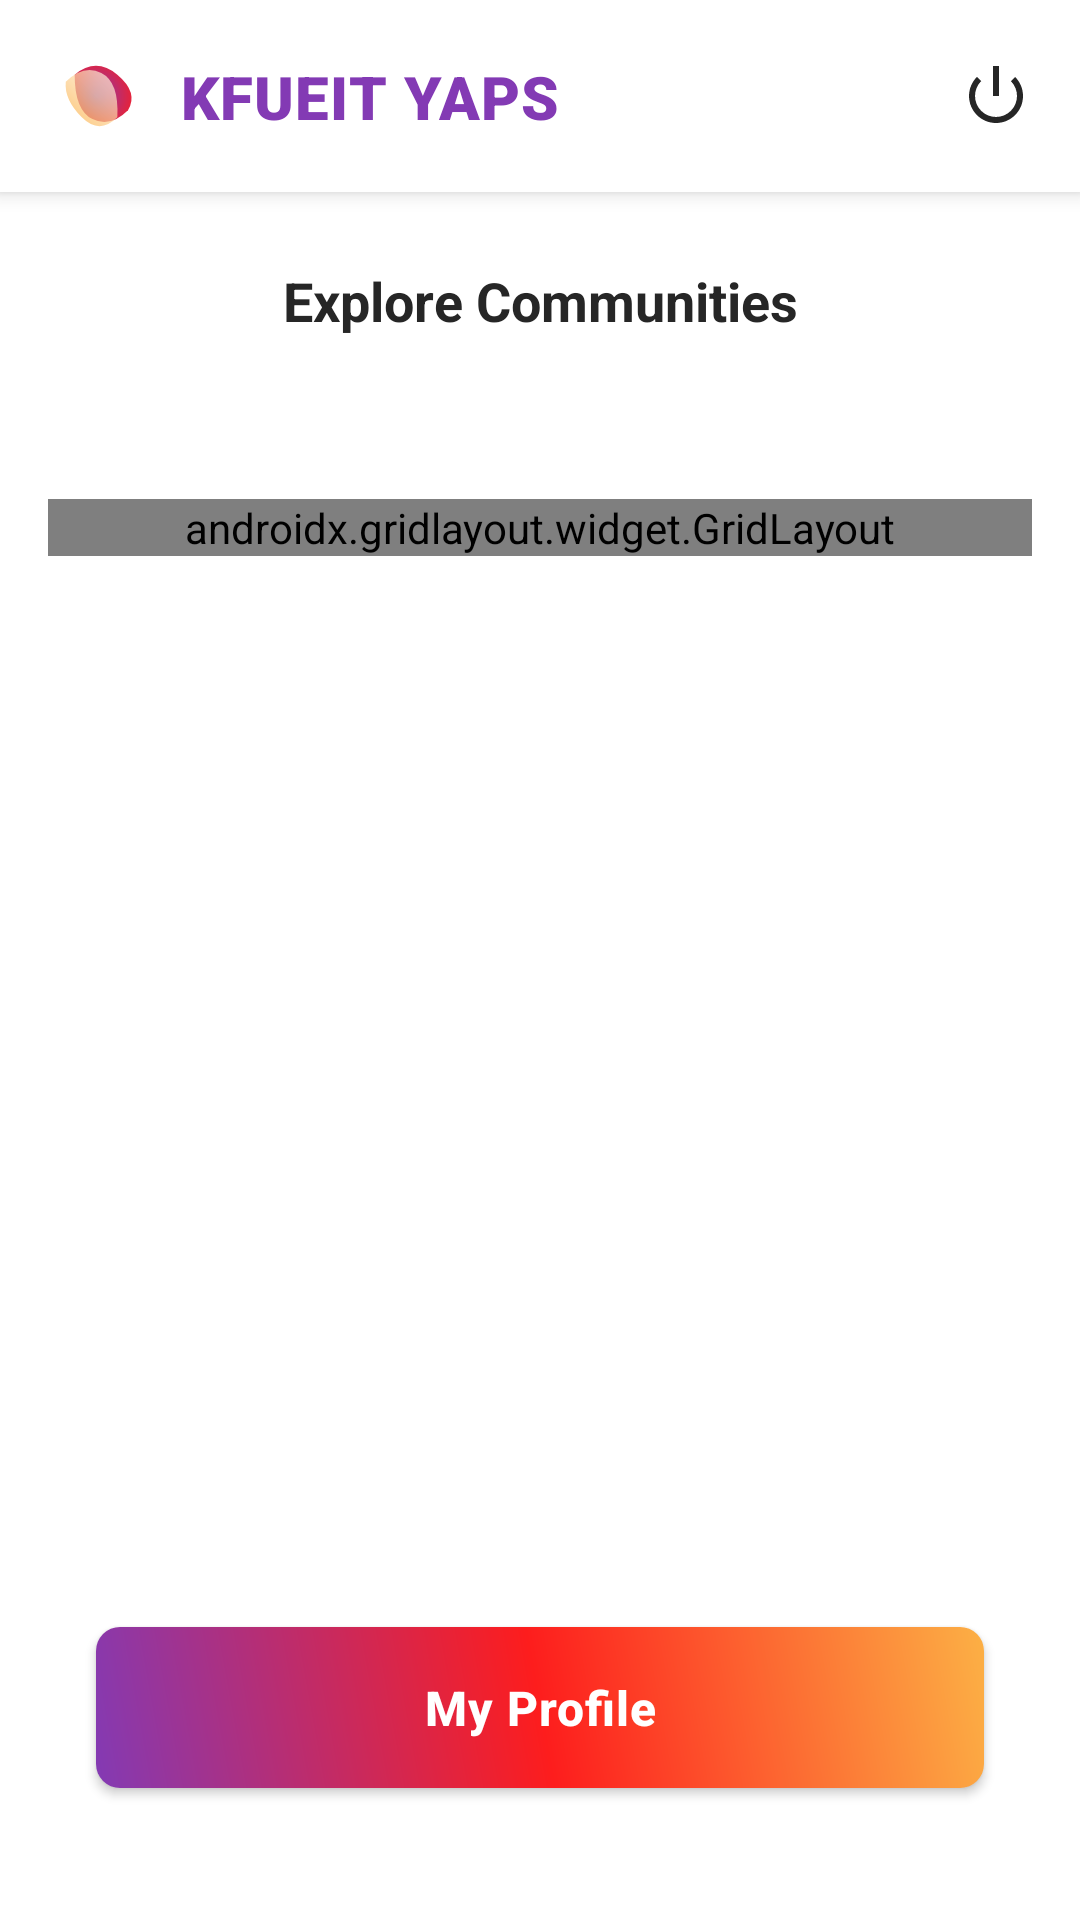

Point at icon controls on the screen. Image size 1080 x 1920, points as (x,y).
lock power off: (996,94)
